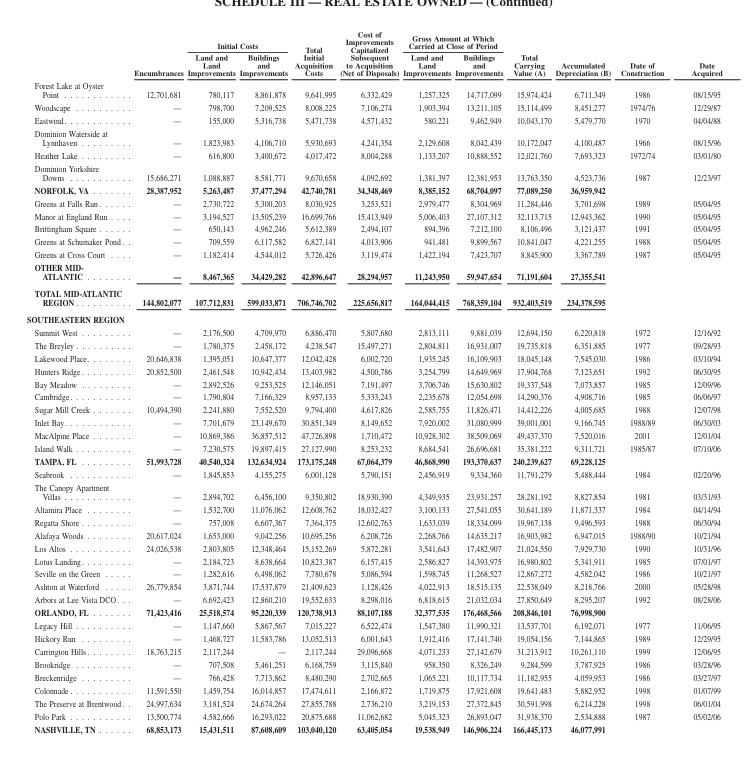table: (26, 29, 721, 733)
table column: (26, 29, 128, 733), (337, 29, 400, 733), (552, 29, 615, 733), (615, 29, 677, 733), (128, 29, 184, 733), (452, 29, 507, 733), (236, 29, 290, 733), (184, 29, 236, 733), (400, 29, 452, 733), (290, 29, 337, 733), (507, 29, 552, 733), (677, 29, 721, 733)
table column header: (26, 29, 721, 78)
table projected row header: (26, 310, 721, 325)
table row: (26, 51, 721, 78), (26, 284, 721, 310), (26, 260, 721, 284), (26, 29, 721, 51), (26, 78, 721, 100), (26, 126, 721, 148), (26, 161, 721, 183), (26, 480, 721, 502), (26, 310, 721, 325), (26, 100, 721, 113), (26, 113, 721, 126), (26, 148, 721, 161), (26, 183, 721, 196), (26, 196, 721, 209), (26, 221, 721, 234), (26, 234, 721, 247), (26, 247, 721, 260), (26, 325, 721, 338), (26, 338, 721, 351), (26, 351, 721, 364), (26, 364, 721, 377), (26, 389, 721, 402), (26, 402, 721, 415), (26, 415, 721, 428), (26, 428, 721, 441), (26, 441, 721, 454), (26, 454, 721, 467), (26, 467, 721, 480), (26, 502, 721, 515), (26, 515, 721, 528), (26, 528, 721, 541), (26, 541, 721, 554), (26, 566, 721, 579), (26, 579, 721, 592), (26, 592, 721, 605), (26, 605, 721, 618), (26, 618, 721, 631), (26, 631, 721, 644), (26, 644, 721, 657), (26, 657, 721, 670), (26, 670, 721, 683), (26, 683, 721, 696), (26, 696, 721, 709), (26, 209, 721, 221), (26, 377, 721, 389), (26, 554, 721, 566), (26, 709, 721, 721), (26, 721, 721, 733)
table spanning cell: (337, 29, 400, 78), (552, 29, 615, 78), (615, 29, 677, 78), (128, 29, 184, 78), (400, 29, 507, 51), (184, 29, 290, 51), (290, 29, 337, 78), (507, 29, 552, 78), (677, 29, 721, 78)
